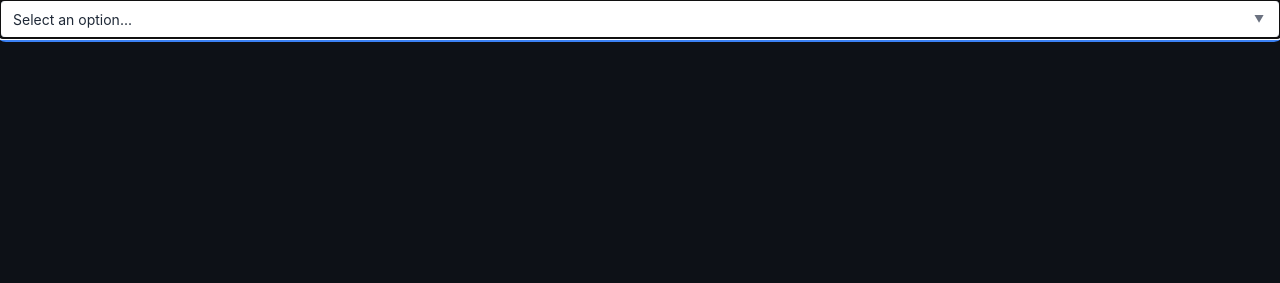
Test: UIForgeComboBox › Search/Filter › filters hierarchical options recursively
Press Arrowdown
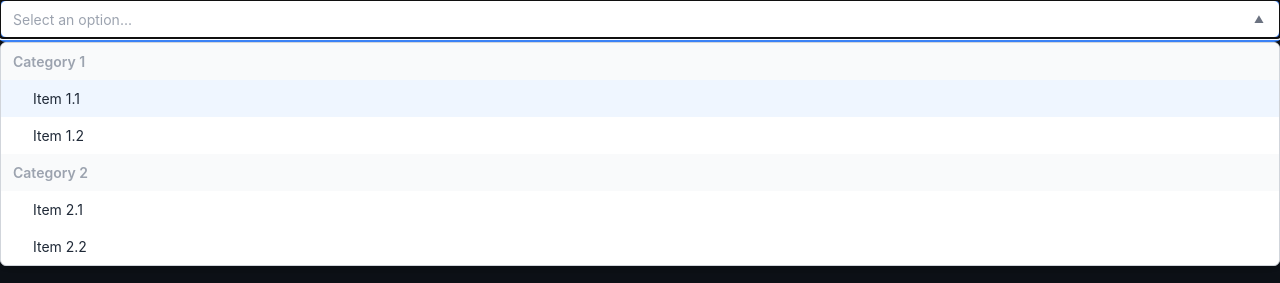
Check: the list is shown
Type "1.1" into the field.
click(628, 19); type("1.1")  # box [13,10,1243,28]
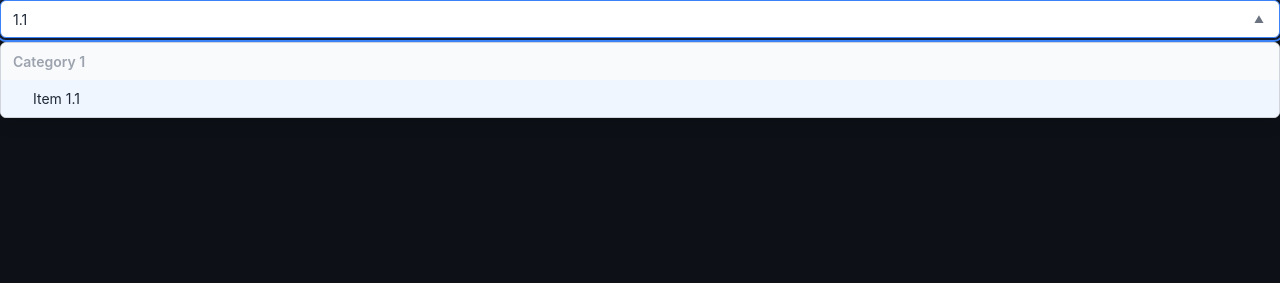
Check: the text "Item 1.1" is shown, box [33,90,80,107]
Check: the option "Item 2.1" is gone
